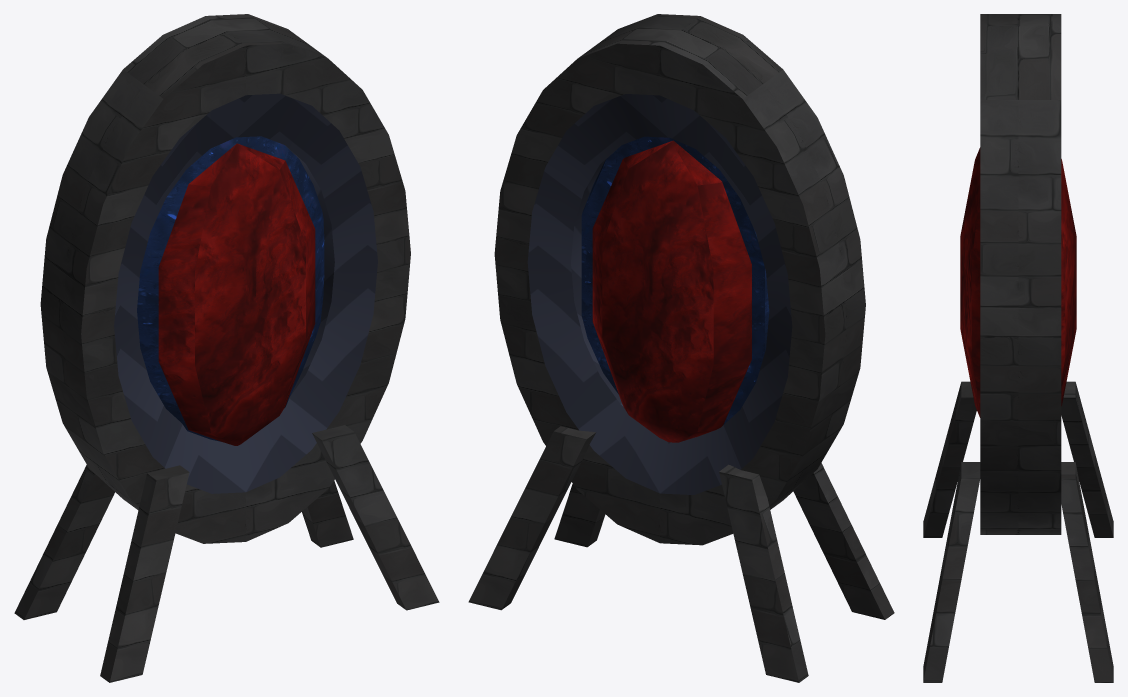
The model's file is portal.glb.
3 views of the same model, side by side, from view 1: azimuth 30°, elevation 25°; view 2: azimuth 150°, elevation 25°; view 3: azimuth 270°, elevation 25° (orthographic).
Parts seen in each view (by area): view 1: turbine_ring%, inner_portal, gear_slant; view 2: turbine_ring%, inner_portal, gear_slant; view 3: turbine_ring%, gear_slant, inner_portal.
Boxes of the visible parts, x1=… form: turbine_ring%: x1=40, y1=14, x2=410, y2=543; inner_portal: x1=137, y1=136, x2=324, y2=445; gear_slant: x1=14, y1=425, x2=439, y2=682; turbine_ring%: x1=494, y1=14, x2=865, y2=545; inner_portal: x1=581, y1=136, x2=769, y2=442; gear_slant: x1=468, y1=426, x2=894, y2=682; turbine_ring%: x1=980, y1=14, x2=1061, y2=534; gear_slant: x1=923, y1=381, x2=1113, y2=682; inner_portal: x1=960, y1=147, x2=1076, y2=417.
Bounding box in the file's own units: 1 × 1.67 × 0.5.
5 materials, 5 textured.
